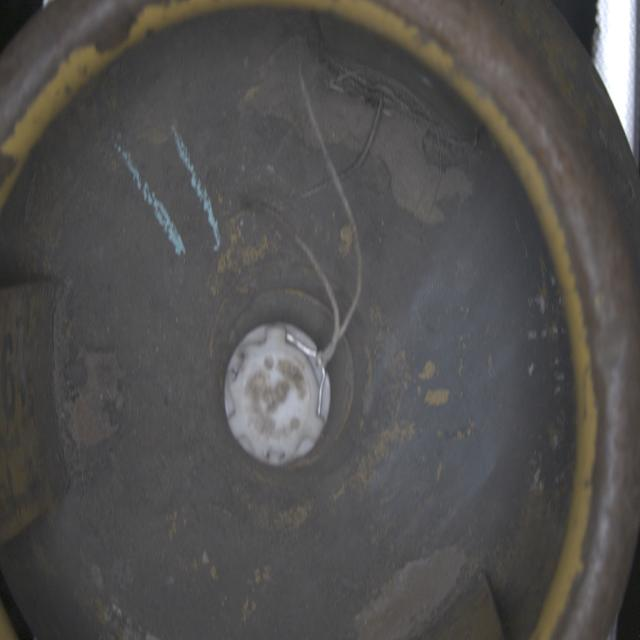Cap: (224, 322, 335, 467)
